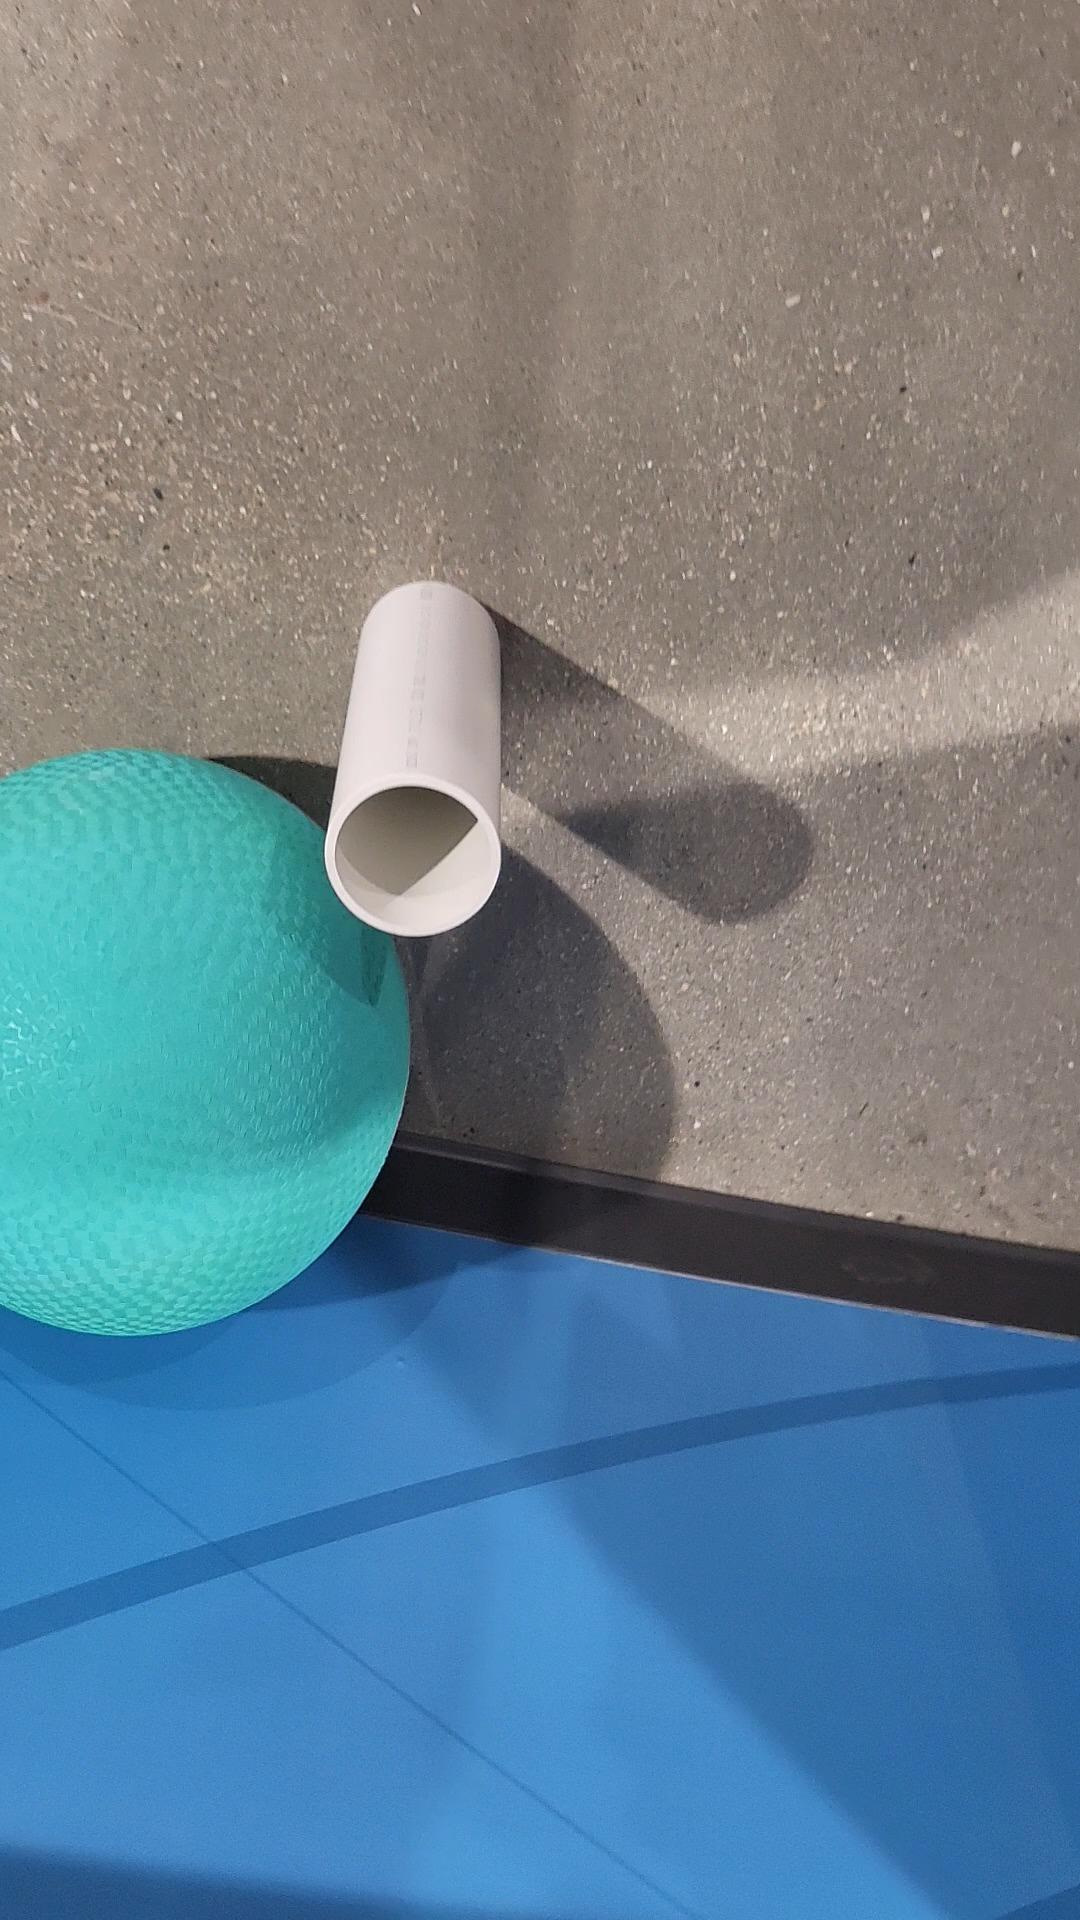algae: (0, 749, 411, 1333)
coral: (326, 583, 501, 938)
